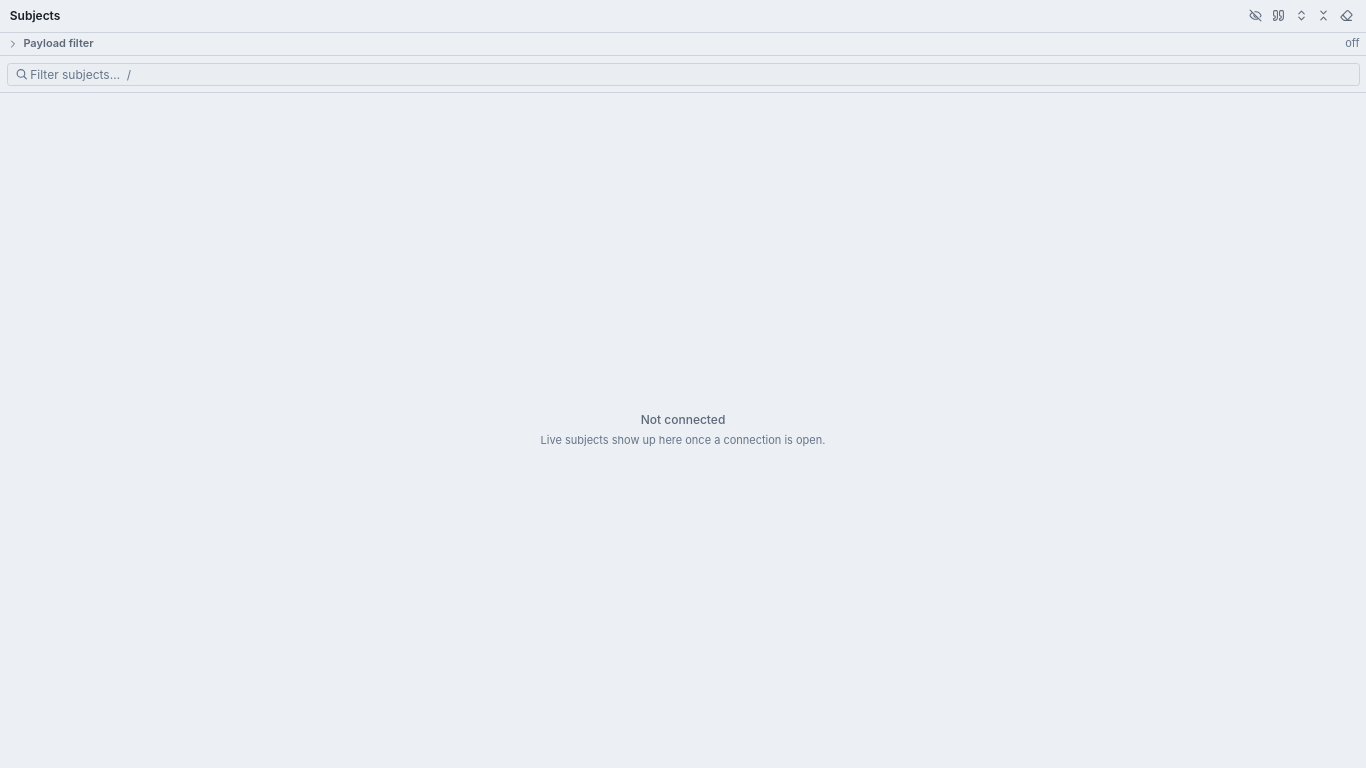
Test: the eraser in the tree header › does nothing when the dialog is dismissed
The image size is (1366, 768).
What coordinates should you click on to do the following:
click the button named "Clear message history"
I would click on:
 (1347, 16)
Its box is [1337, 6, 1356, 26].
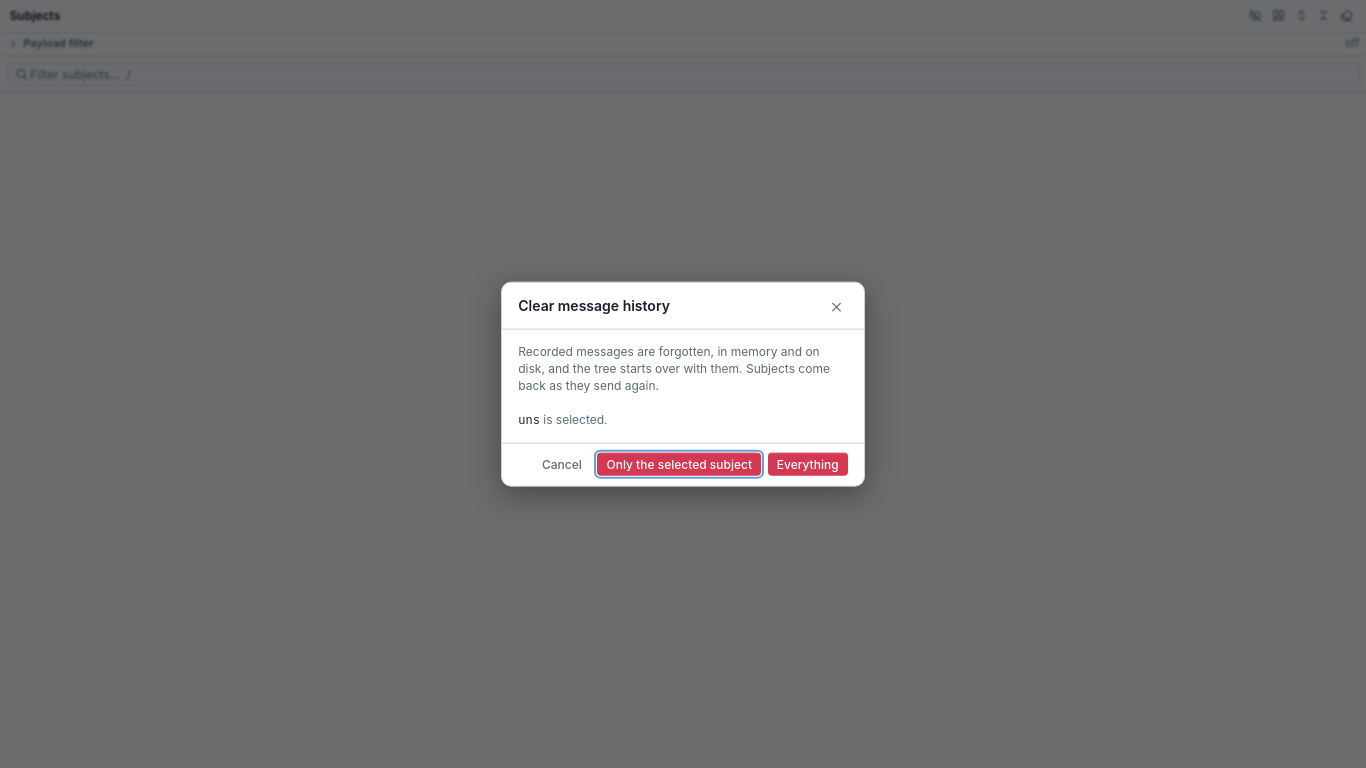
What coordinates should you click on to do the following:
click the button "Cancel"
I would click on:
 (562, 464)
Its box is [533, 453, 591, 476].
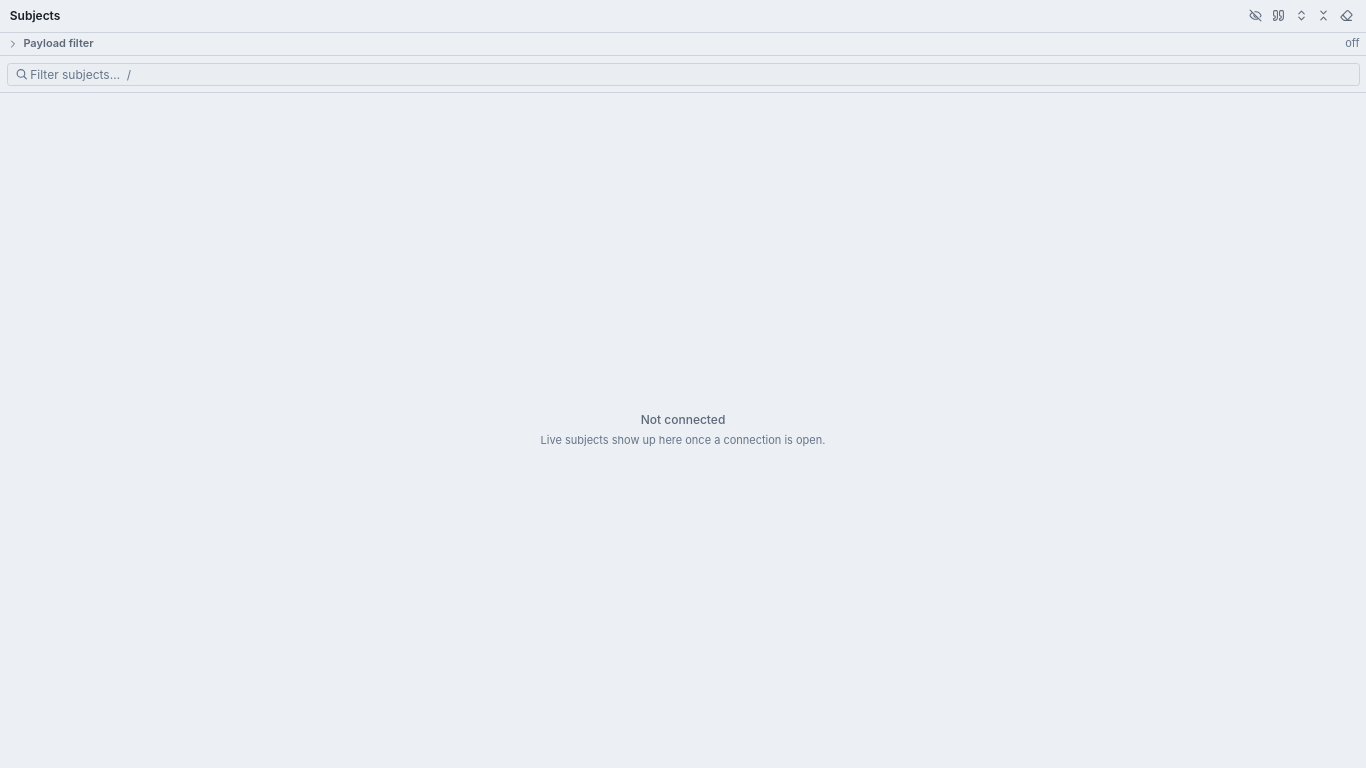
Expected: the heading "Clear message history" is gone
